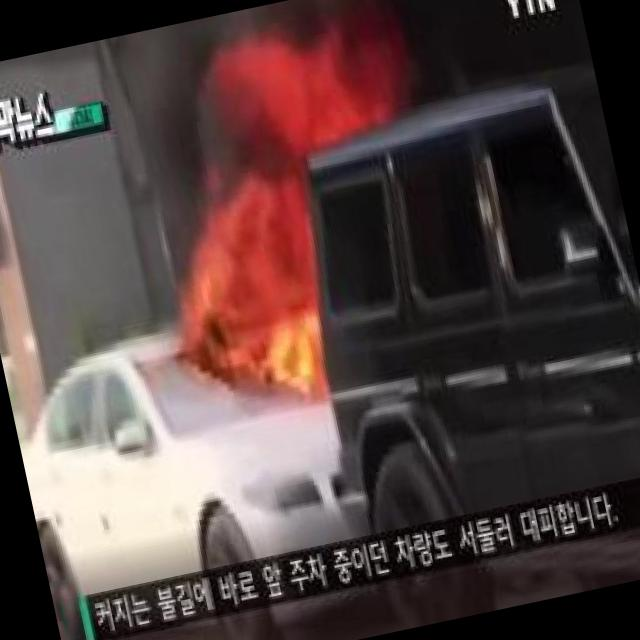Fire: (111, 0, 475, 426)
